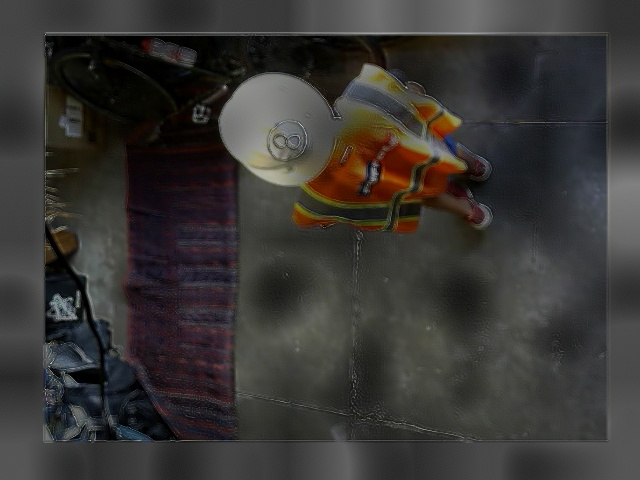eight: (264, 118, 308, 159)
